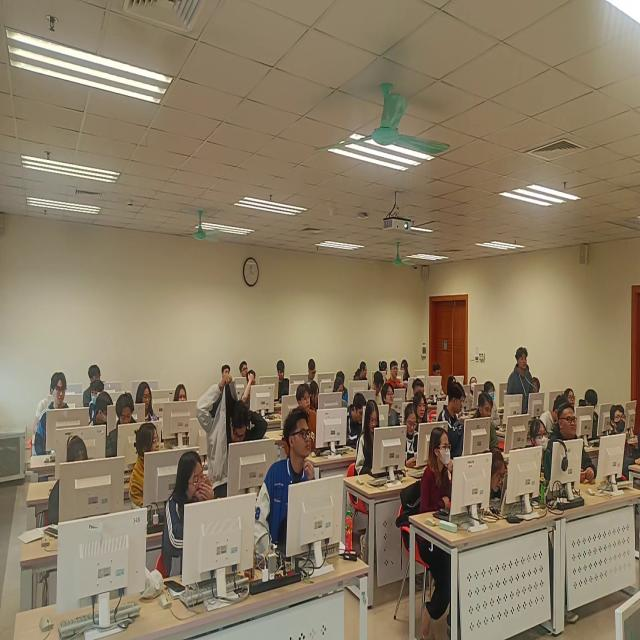raise_hand: (196, 372, 270, 500), (163, 449, 217, 573), (242, 371, 260, 409)
raise_head: (253, 407, 316, 563), (418, 423, 459, 560), (34, 370, 75, 455), (552, 403, 582, 475), (602, 404, 632, 475), (289, 384, 320, 443), (527, 417, 552, 490), (378, 383, 403, 437), (483, 381, 502, 425), (385, 357, 403, 394), (173, 383, 190, 416), (563, 383, 579, 411), (238, 359, 250, 383), (470, 374, 480, 402), (220, 361, 232, 384), (531, 376, 542, 401)
stand: (505, 347, 534, 424)
using_computer: (44, 437, 99, 531), (475, 447, 517, 518), (353, 400, 385, 484), (104, 394, 140, 461), (467, 391, 500, 456), (31, 368, 58, 446), (579, 388, 604, 443), (536, 392, 566, 436), (345, 393, 368, 450), (135, 380, 160, 428), (405, 376, 432, 416), (275, 359, 293, 405), (413, 392, 430, 440), (370, 370, 385, 411), (334, 380, 350, 413), (433, 362, 448, 396), (306, 357, 323, 386), (335, 368, 350, 394), (443, 376, 460, 395)
using_phone: (400, 404, 419, 475)
